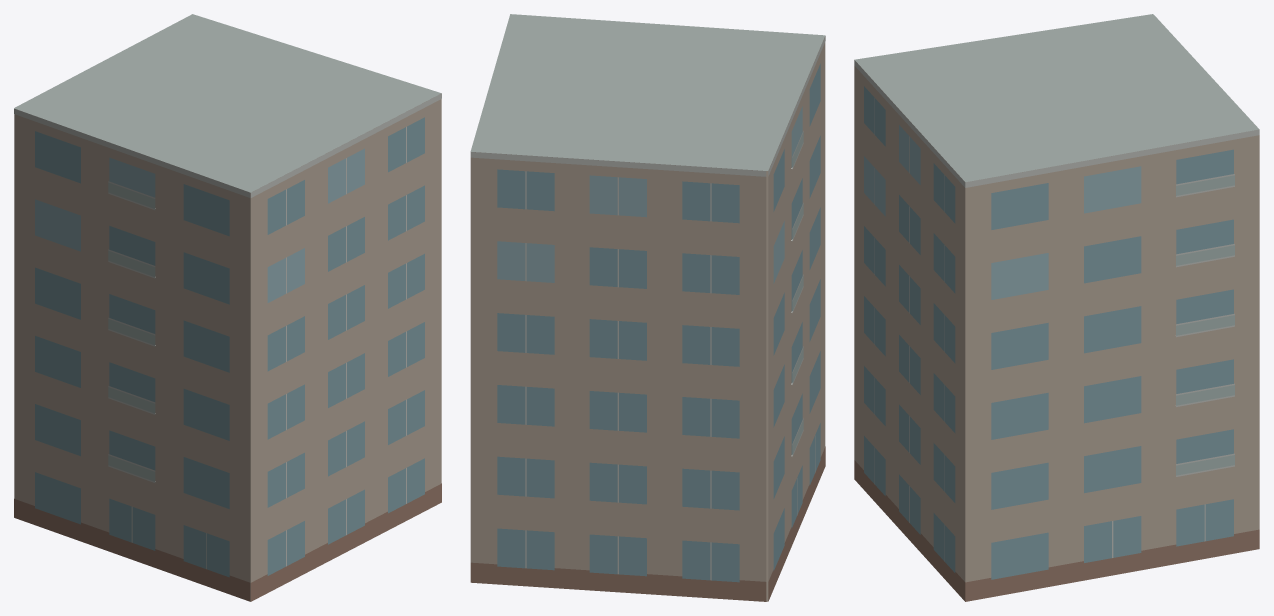
Rendered from survey-upis-32745553.glb.
The picture shows the model from 3 angles, left to right: view 1: azimuth 30°, elevation 25°; view 2: azimuth 150°, elevation 25°; view 3: azimuth 270°, elevation 25°; orthographic projection. The views are drawn at different scales.
Visible parts, largest first — view 1: survey-upis-32745553.tmp; view 2: survey-upis-32745553.tmp; view 3: survey-upis-32745553.tmp.
Boxes of the visible parts, <box> form: survey-upis-32745553.tmp: <box>14,14,441,601</box>; survey-upis-32745553.tmp: <box>470,14,825,601</box>; survey-upis-32745553.tmp: <box>854,14,1259,601</box>.
Size of the model in its own units: 15.51 by 18.02 by 15.78.
